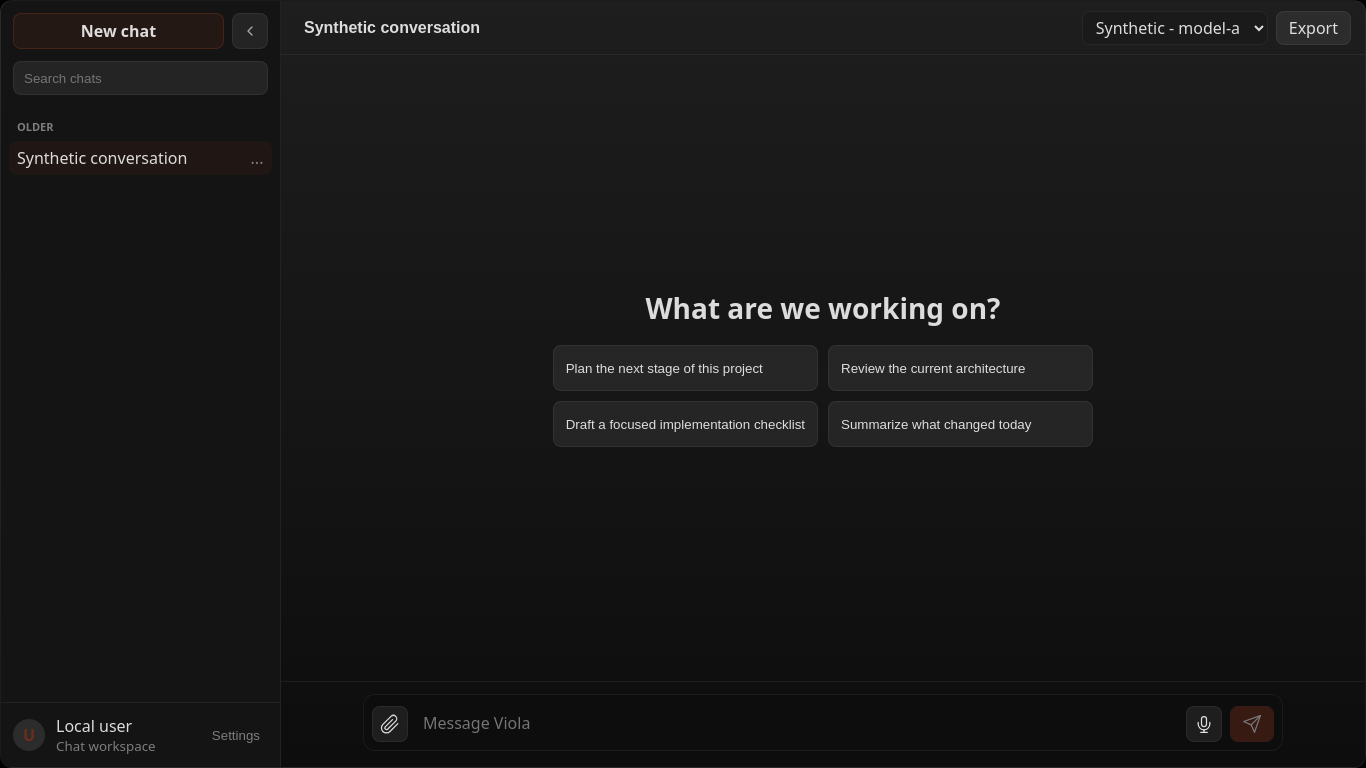
Test: Chat model recovery through actual apiFetch › keeps the confirmed choice and visible feedback after HTTP400 refusal
The width and height of the screenshot is (1366, 768).
Expected: the field showing "Synthetic conversation" is shown, x1=295 y1=10 x2=1070 y2=44
Select "Synthetic - model-b" in the dropdown named "Model" at (1175, 28), box x1=1082 y1=10 x2=1268 y2=44
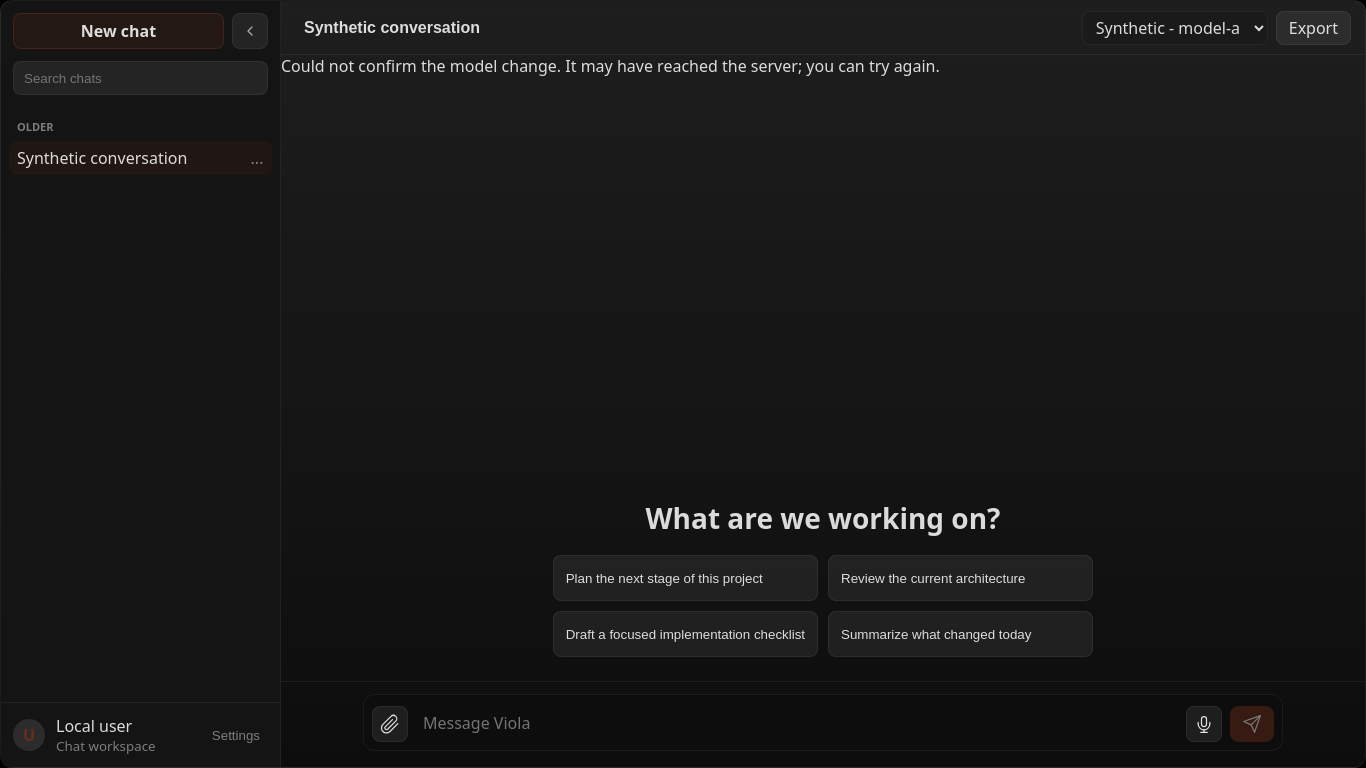
Expected: the message shows "Could not confirm the model change", x1=281 y1=55 x2=940 y2=77
